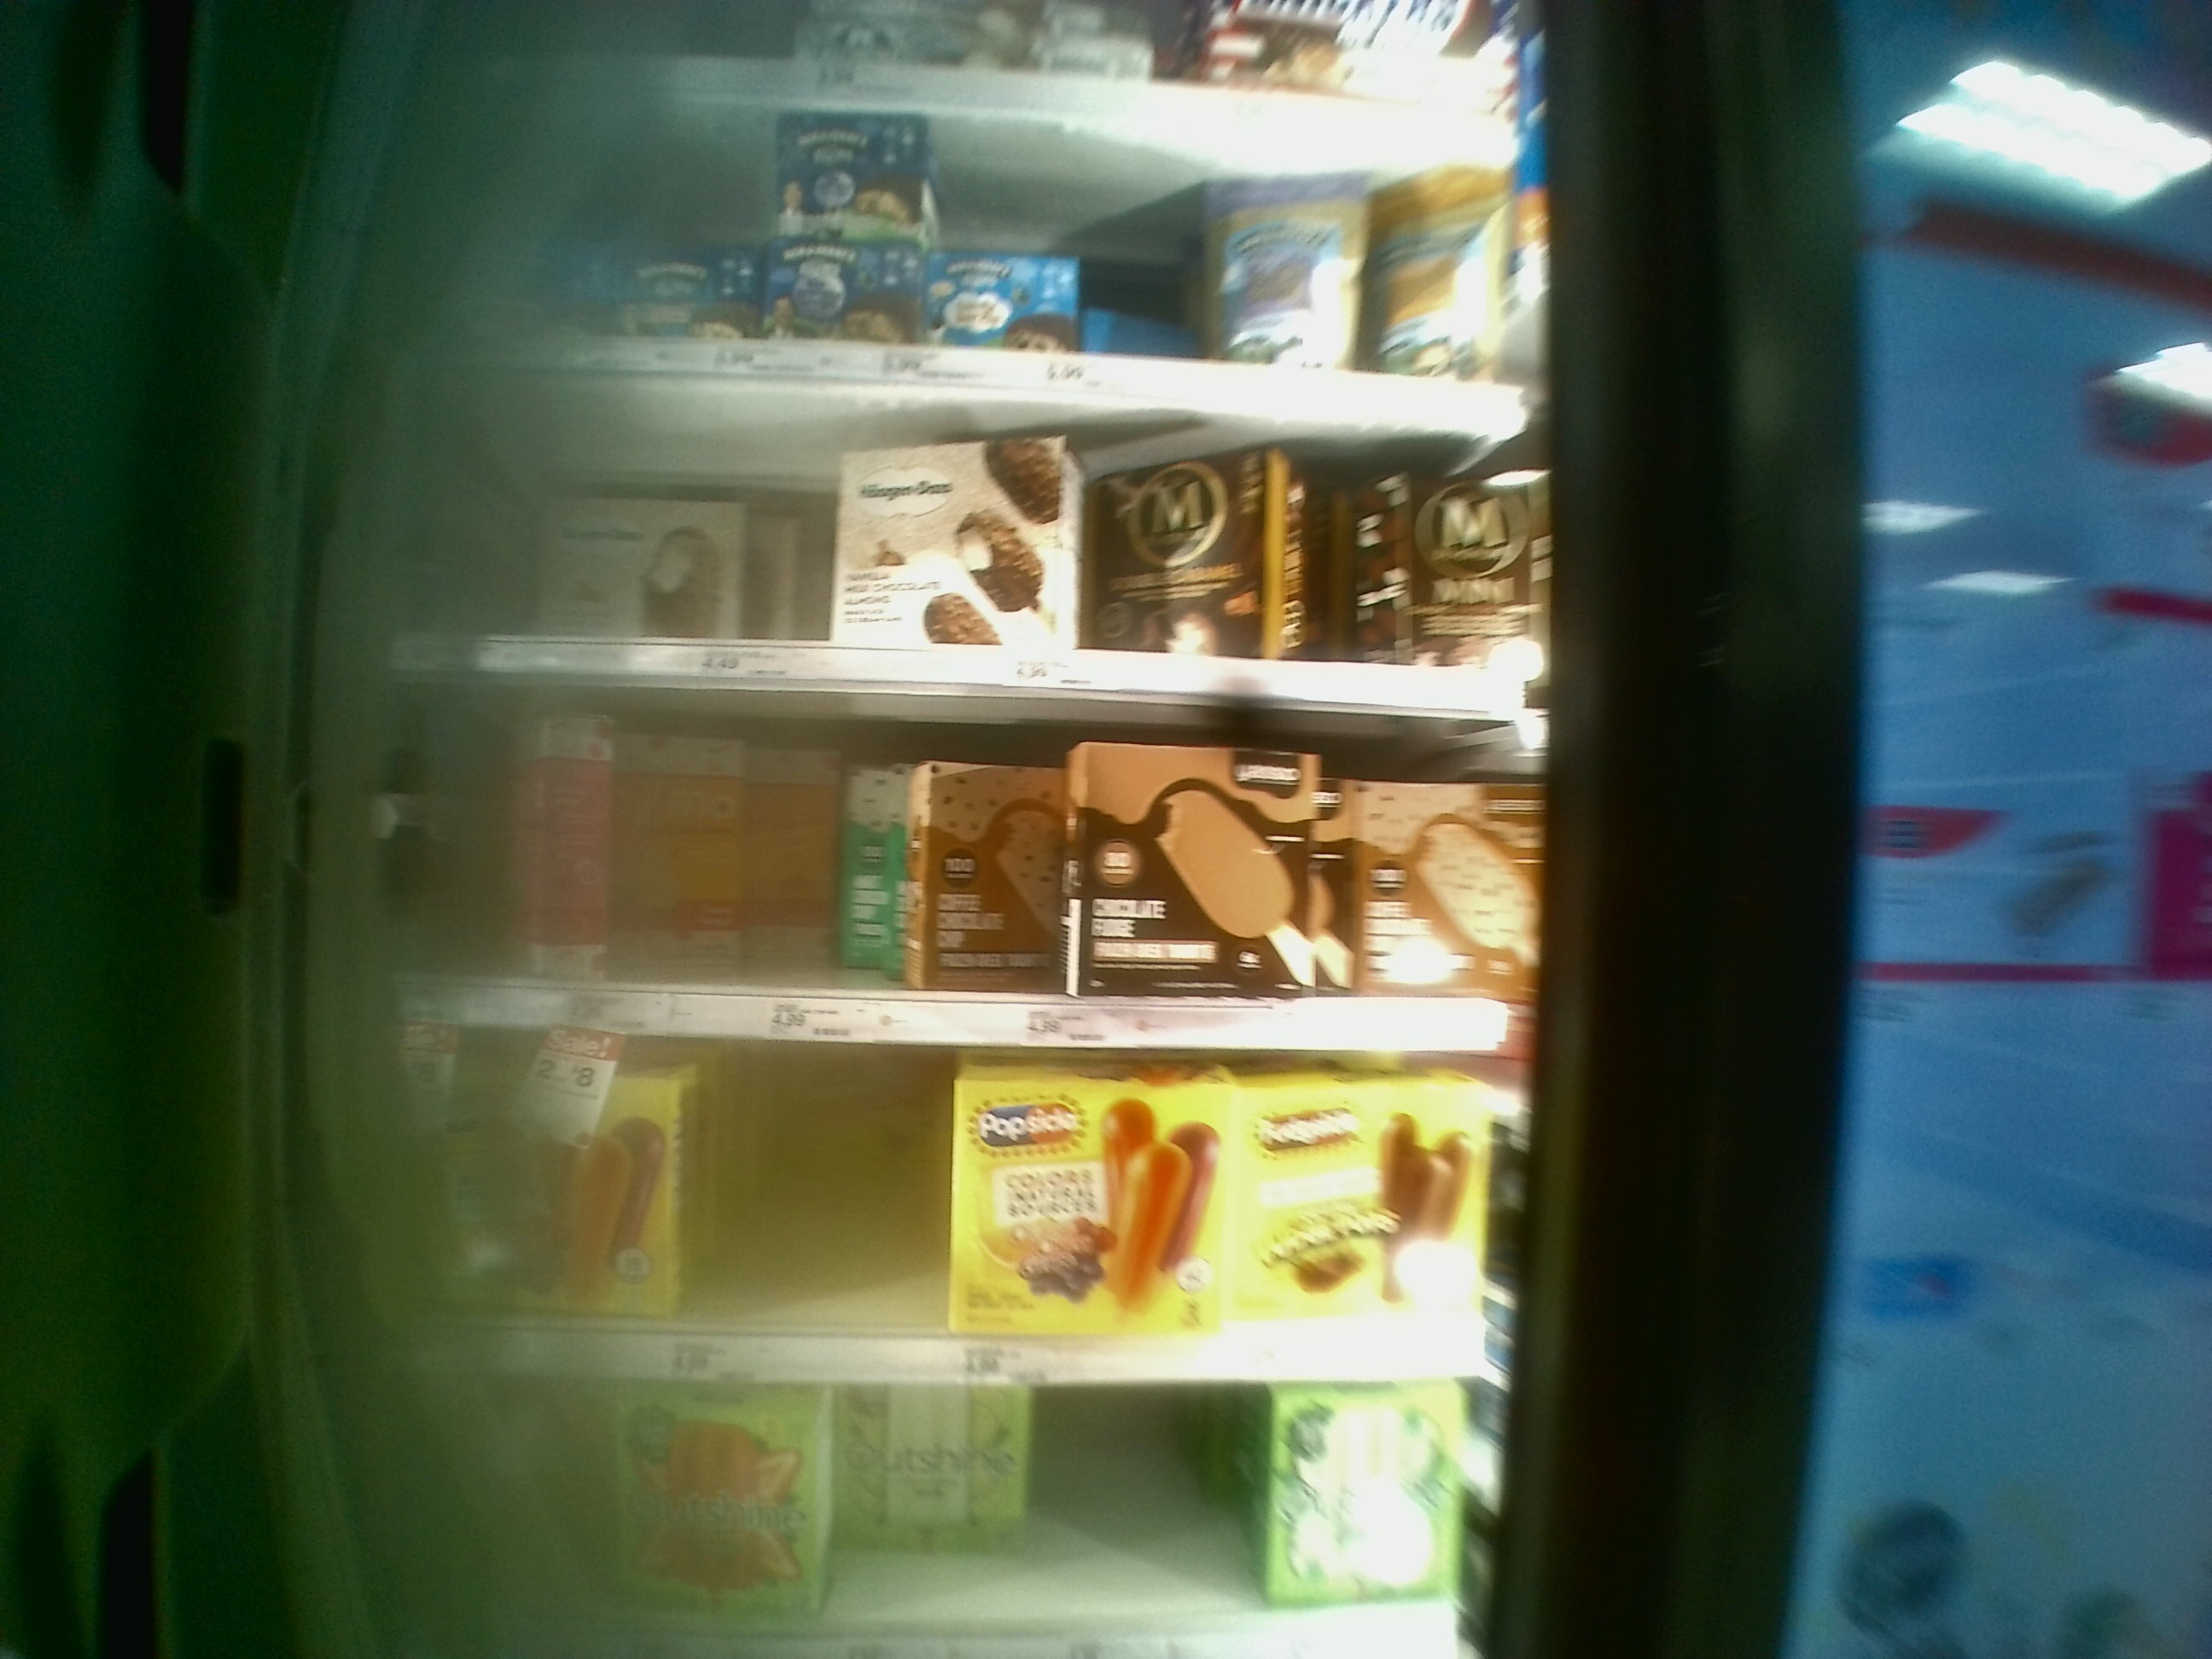shelf: (361, 1053, 1538, 1394), (348, 711, 1541, 1037), (361, 410, 1548, 706)
